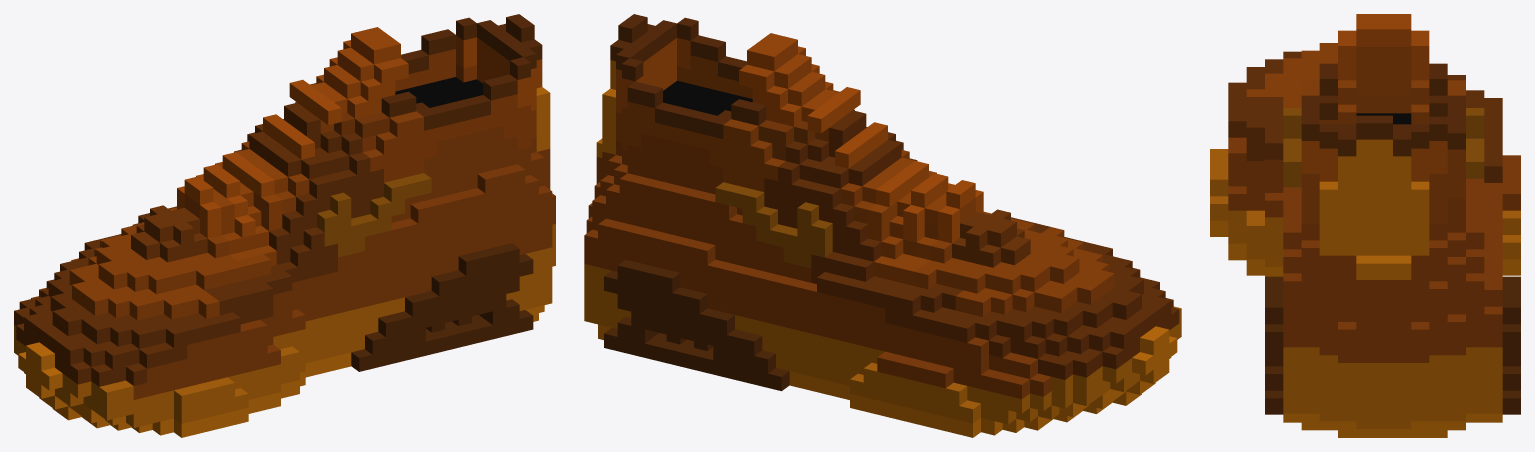
File: Clay Desert.fbx
3 renders of one model, left to right at view 1: azimuth 30°, elevation 25°; view 2: azimuth 150°, elevation 25°; view 3: azimuth 270°, elevation 25°, orthographic. The views are drawn at different scales.
Parts seen in each view (by area): view 1: Untitled; view 2: Untitled; view 3: Untitled.
Boxes of the visible parts, left/top/right/bottom form: Untitled: left=14, top=14, right=555, bottom=437; Untitled: left=584, top=14, right=1181, bottom=437; Untitled: left=1210, top=14, right=1520, bottom=437.
Size of the model in its own units: 390 by 200 by 170.
